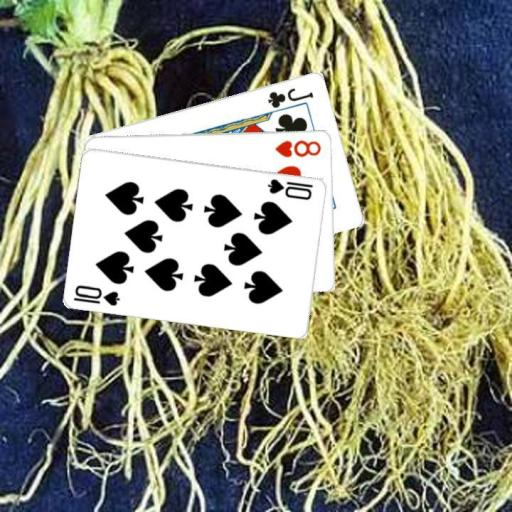10S: (265, 175, 315, 201), (71, 282, 122, 307)
8H: (272, 136, 323, 159)
JC: (265, 84, 315, 109)
